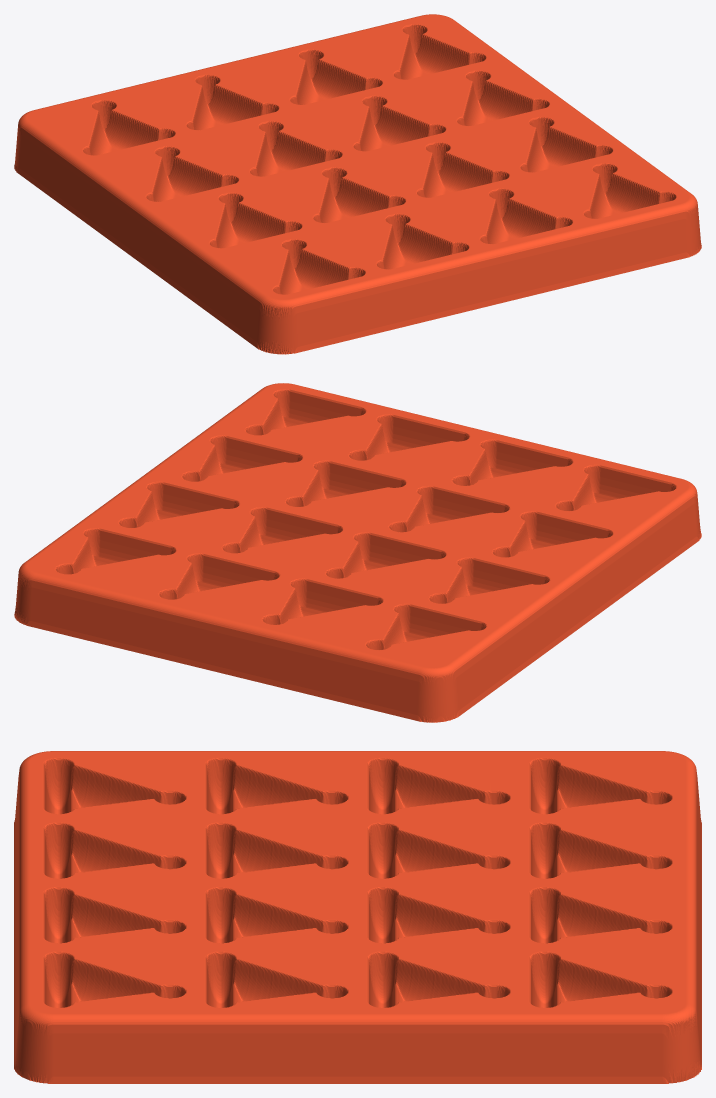
Rendered from mold.glb.
3 renders of one model, top to bottom at view 1: azimuth 30°, elevation 25°; view 2: azimuth 150°, elevation 25°; view 3: azimuth 270°, elevation 25°, orthographic. The views are drawn at different scales.
Parts seen in each view (by area): view 1: geometry_0; view 2: geometry_0; view 3: geometry_0.
Part boxes in pixels (x1,y1,x2,y2): geometry_0: (14,14,701,354); geometry_0: (14,383,701,722); geometry_0: (14,751,701,1083).
Bounding box in the file's own units: 0.1486 × 0.0159 × 0.1569.
